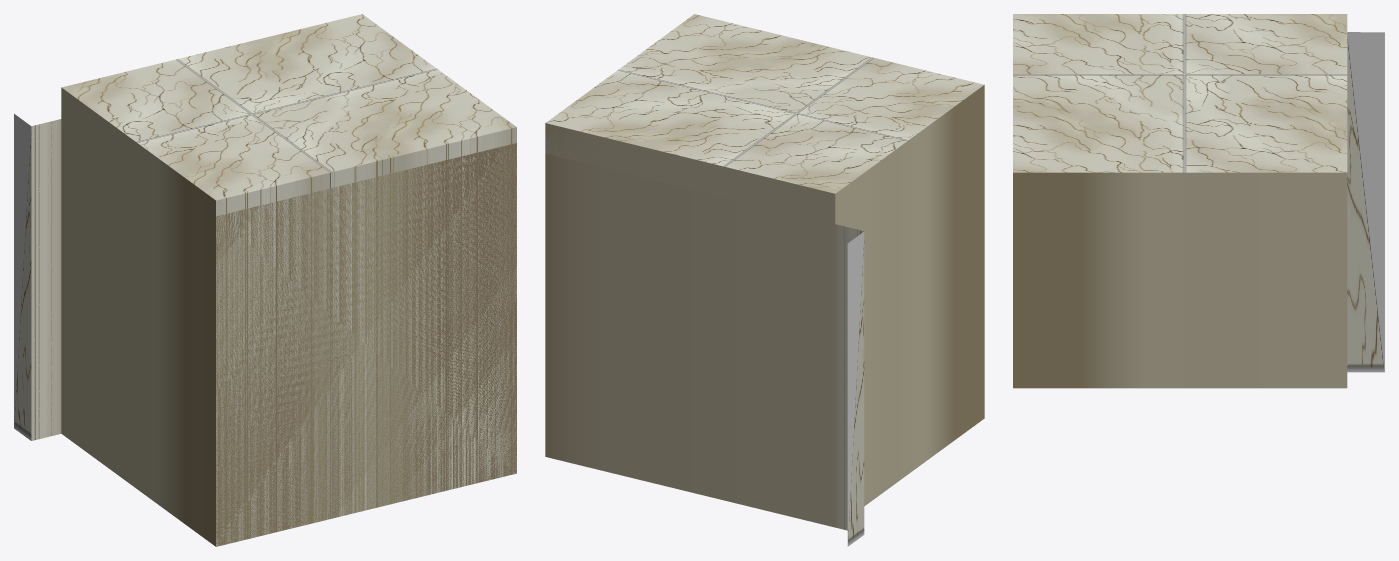
The model's file is FrontLeft2ndFloorP3.obj.
3 views of the same model, side by side, from view 1: azimuth 30°, elevation 25°; view 2: azimuth 150°, elevation 25°; view 3: azimuth 270°, elevation 25° (orthographic). The views are drawn at different scales.
Parts seen in each view (by area): view 1: Box011; view 2: Box011; view 3: Box011.
Boxes of the visible parts, x1,y1,x2,y2 form: Box011: [14, 14, 516, 546]; Box011: [545, 14, 984, 546]; Box011: [1013, 14, 1384, 388].
Bounding box in the file's own units: 130 × 130 × 117.
